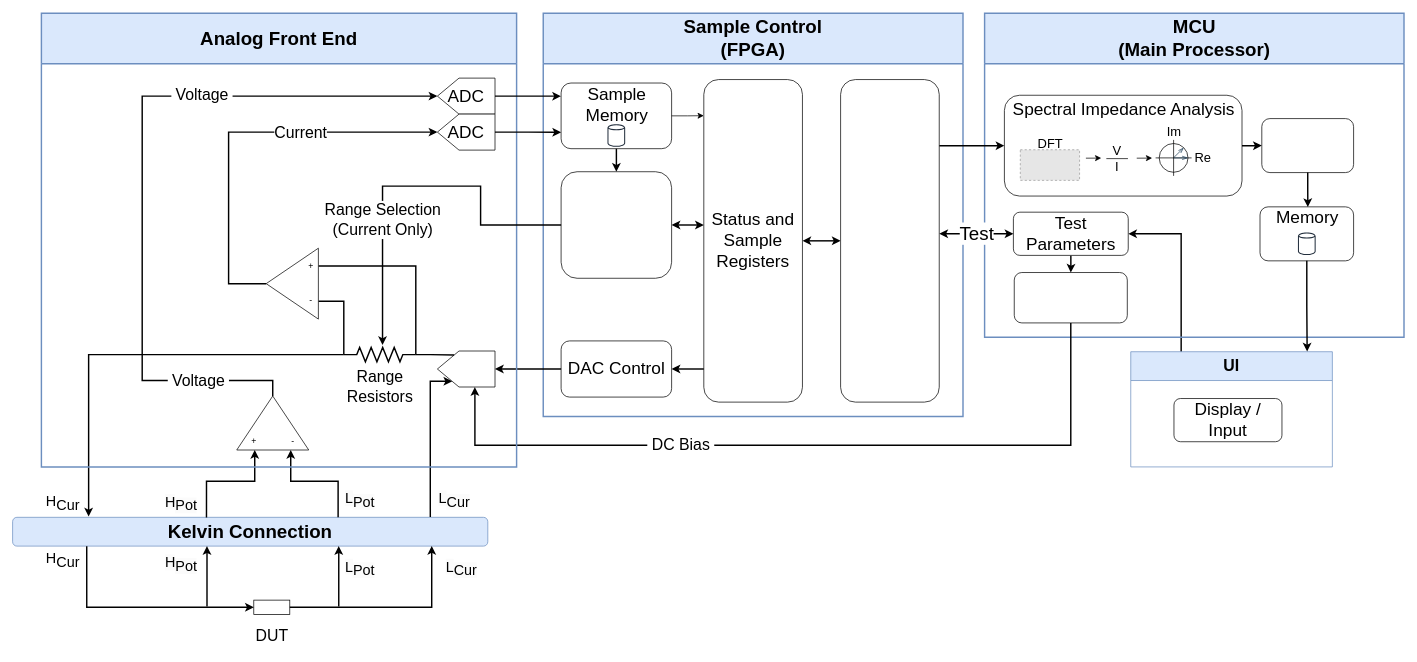
This 1417x662 diagram has some shape labels left out. Grey dashed boxes stand in for pictures. The centre of each missing label's shape, as x and y in pixels:
"ADC Sample and Range Control" belongs at pixel 616 224.
"Bias Control" belongs at pixel 1070 297.
"DAC" belongs at pixel 466 368.
"Derived Quantities" belongs at pixel 1307 145.
"FPGA Interface" belongs at pixel 889 240.
